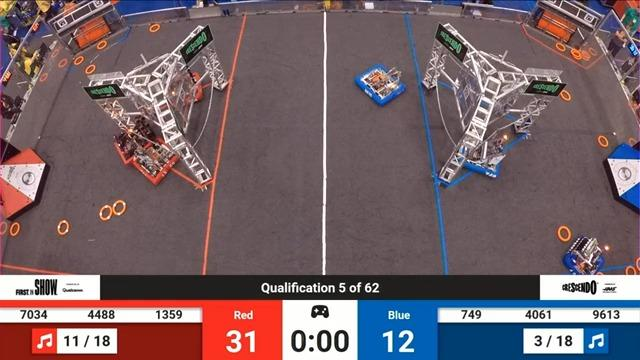robot: (128, 132, 188, 187), (108, 117, 162, 163), (353, 64, 408, 108), (460, 134, 502, 181), (563, 236, 609, 274), (168, 70, 208, 101)
